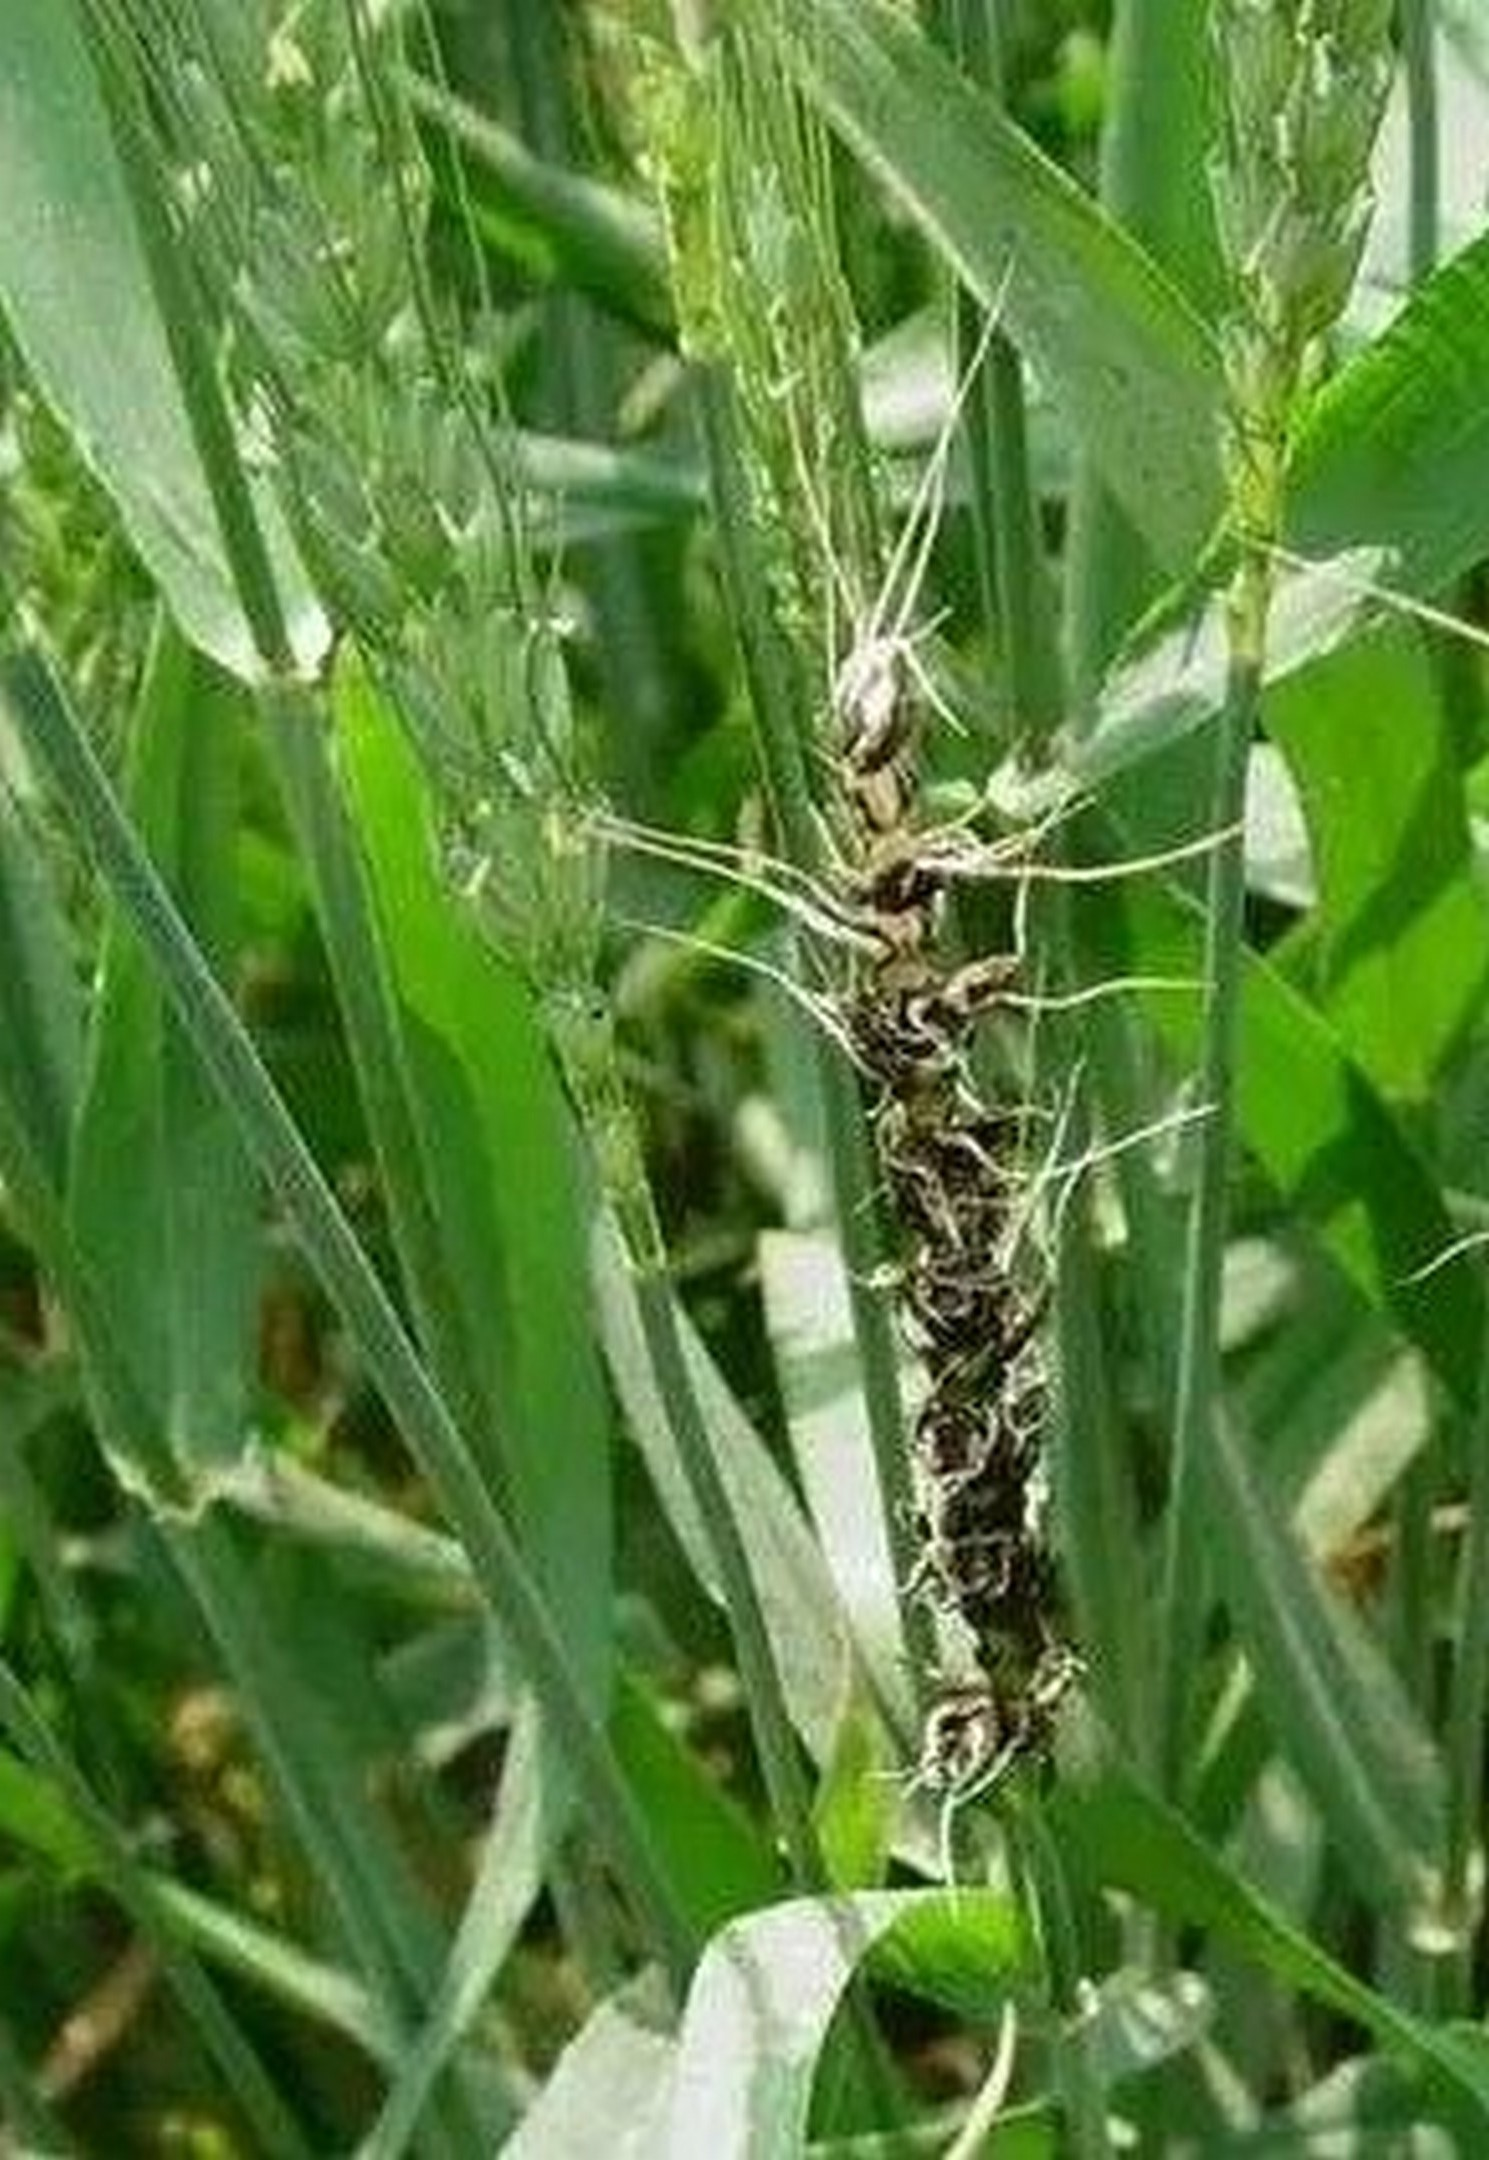Wheat Loose Smut: (740, 684, 1093, 1684)
